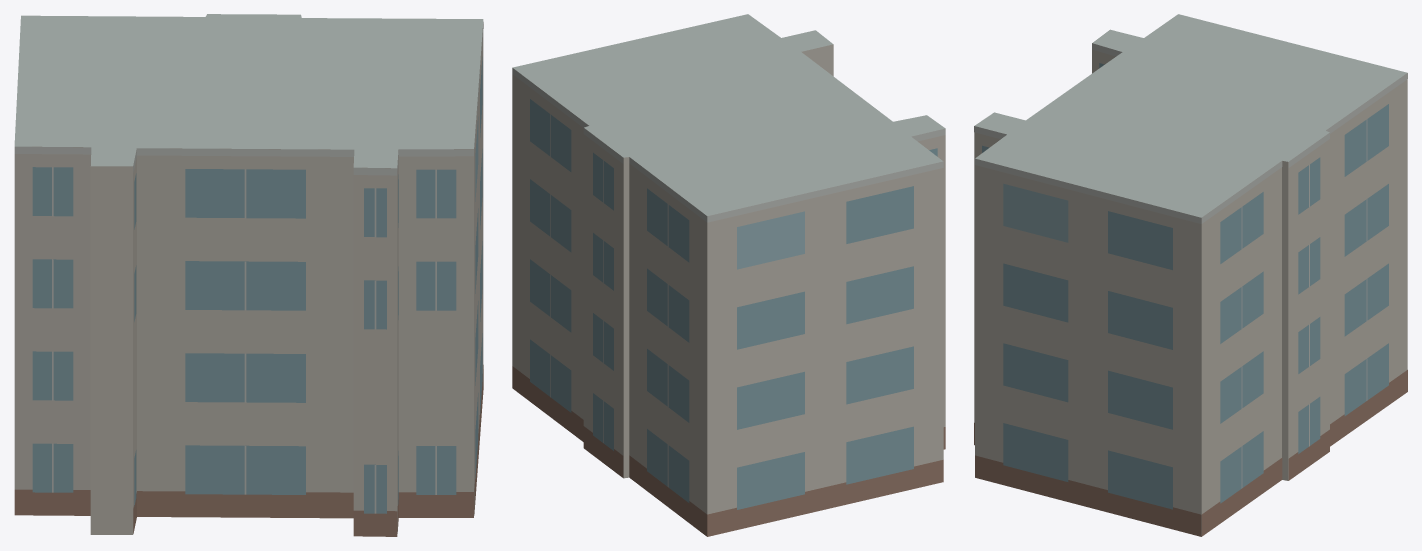
File: survey-upis-32706619.glb
The picture shows the model from 3 angles, left to right: view 1: azimuth 30°, elevation 25°; view 2: azimuth 150°, elevation 25°; view 3: azimuth 270°, elevation 25°; orthographic projection. The views are drawn at different scales.
Parts seen in each view (by area): view 1: survey-upis-32706619.tmp; view 2: survey-upis-32706619.tmp; view 3: survey-upis-32706619.tmp.
Boxes of the visible parts, x1,y1,x2,y2 form: survey-upis-32706619.tmp: [14, 14, 483, 536]; survey-upis-32706619.tmp: [512, 14, 945, 536]; survey-upis-32706619.tmp: [974, 14, 1407, 536].
Size of the model in its own units: 16.72 by 12.2 by 15.03.
